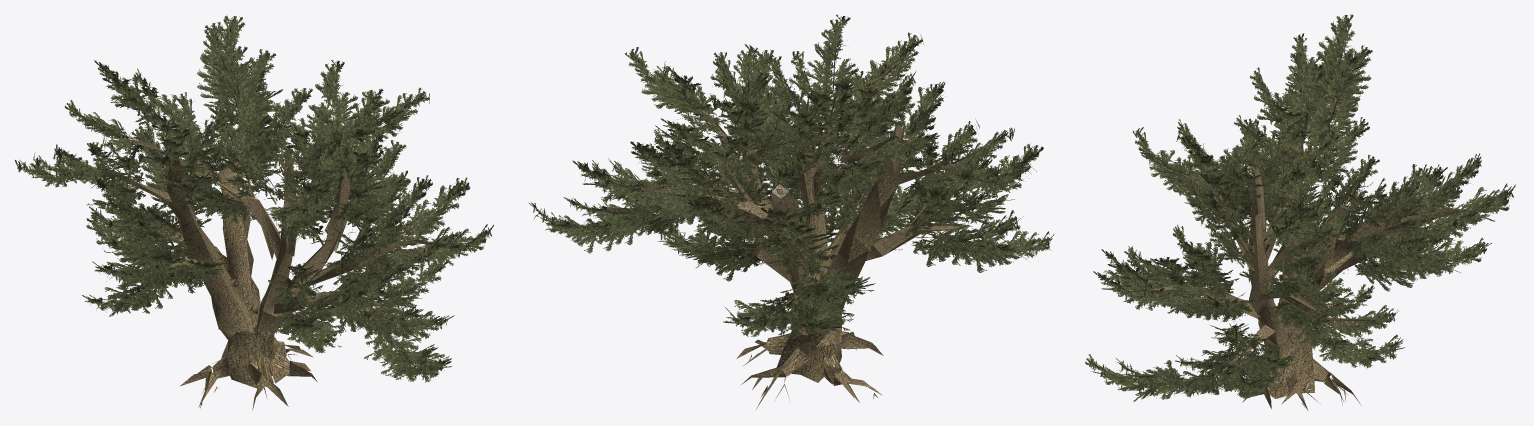
The model's file is cedar-lebanon.glb.
3 renders of one model, left to right at view 1: azimuth 30°, elevation 25°; view 2: azimuth 150°, elevation 25°; view 3: azimuth 270°, elevation 25°, orthographic. The views are drawn at different scales.
Visible parts, largest first — view 1: cedar-lebanon; view 2: cedar-lebanon; view 3: cedar-lebanon.
Boxes of the visible parts, bbox=[...] form: cedar-lebanon: bbox=[15, 15, 493, 409]; cedar-lebanon: bbox=[529, 14, 1054, 410]; cedar-lebanon: bbox=[1085, 14, 1515, 410].
Size of the model in its own units: 20.3 by 15.78 by 18.75.
4 materials, 4 textured.
